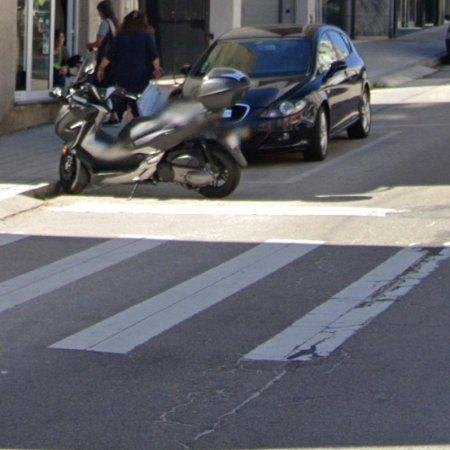motorcycles: (55, 63, 250, 198)
